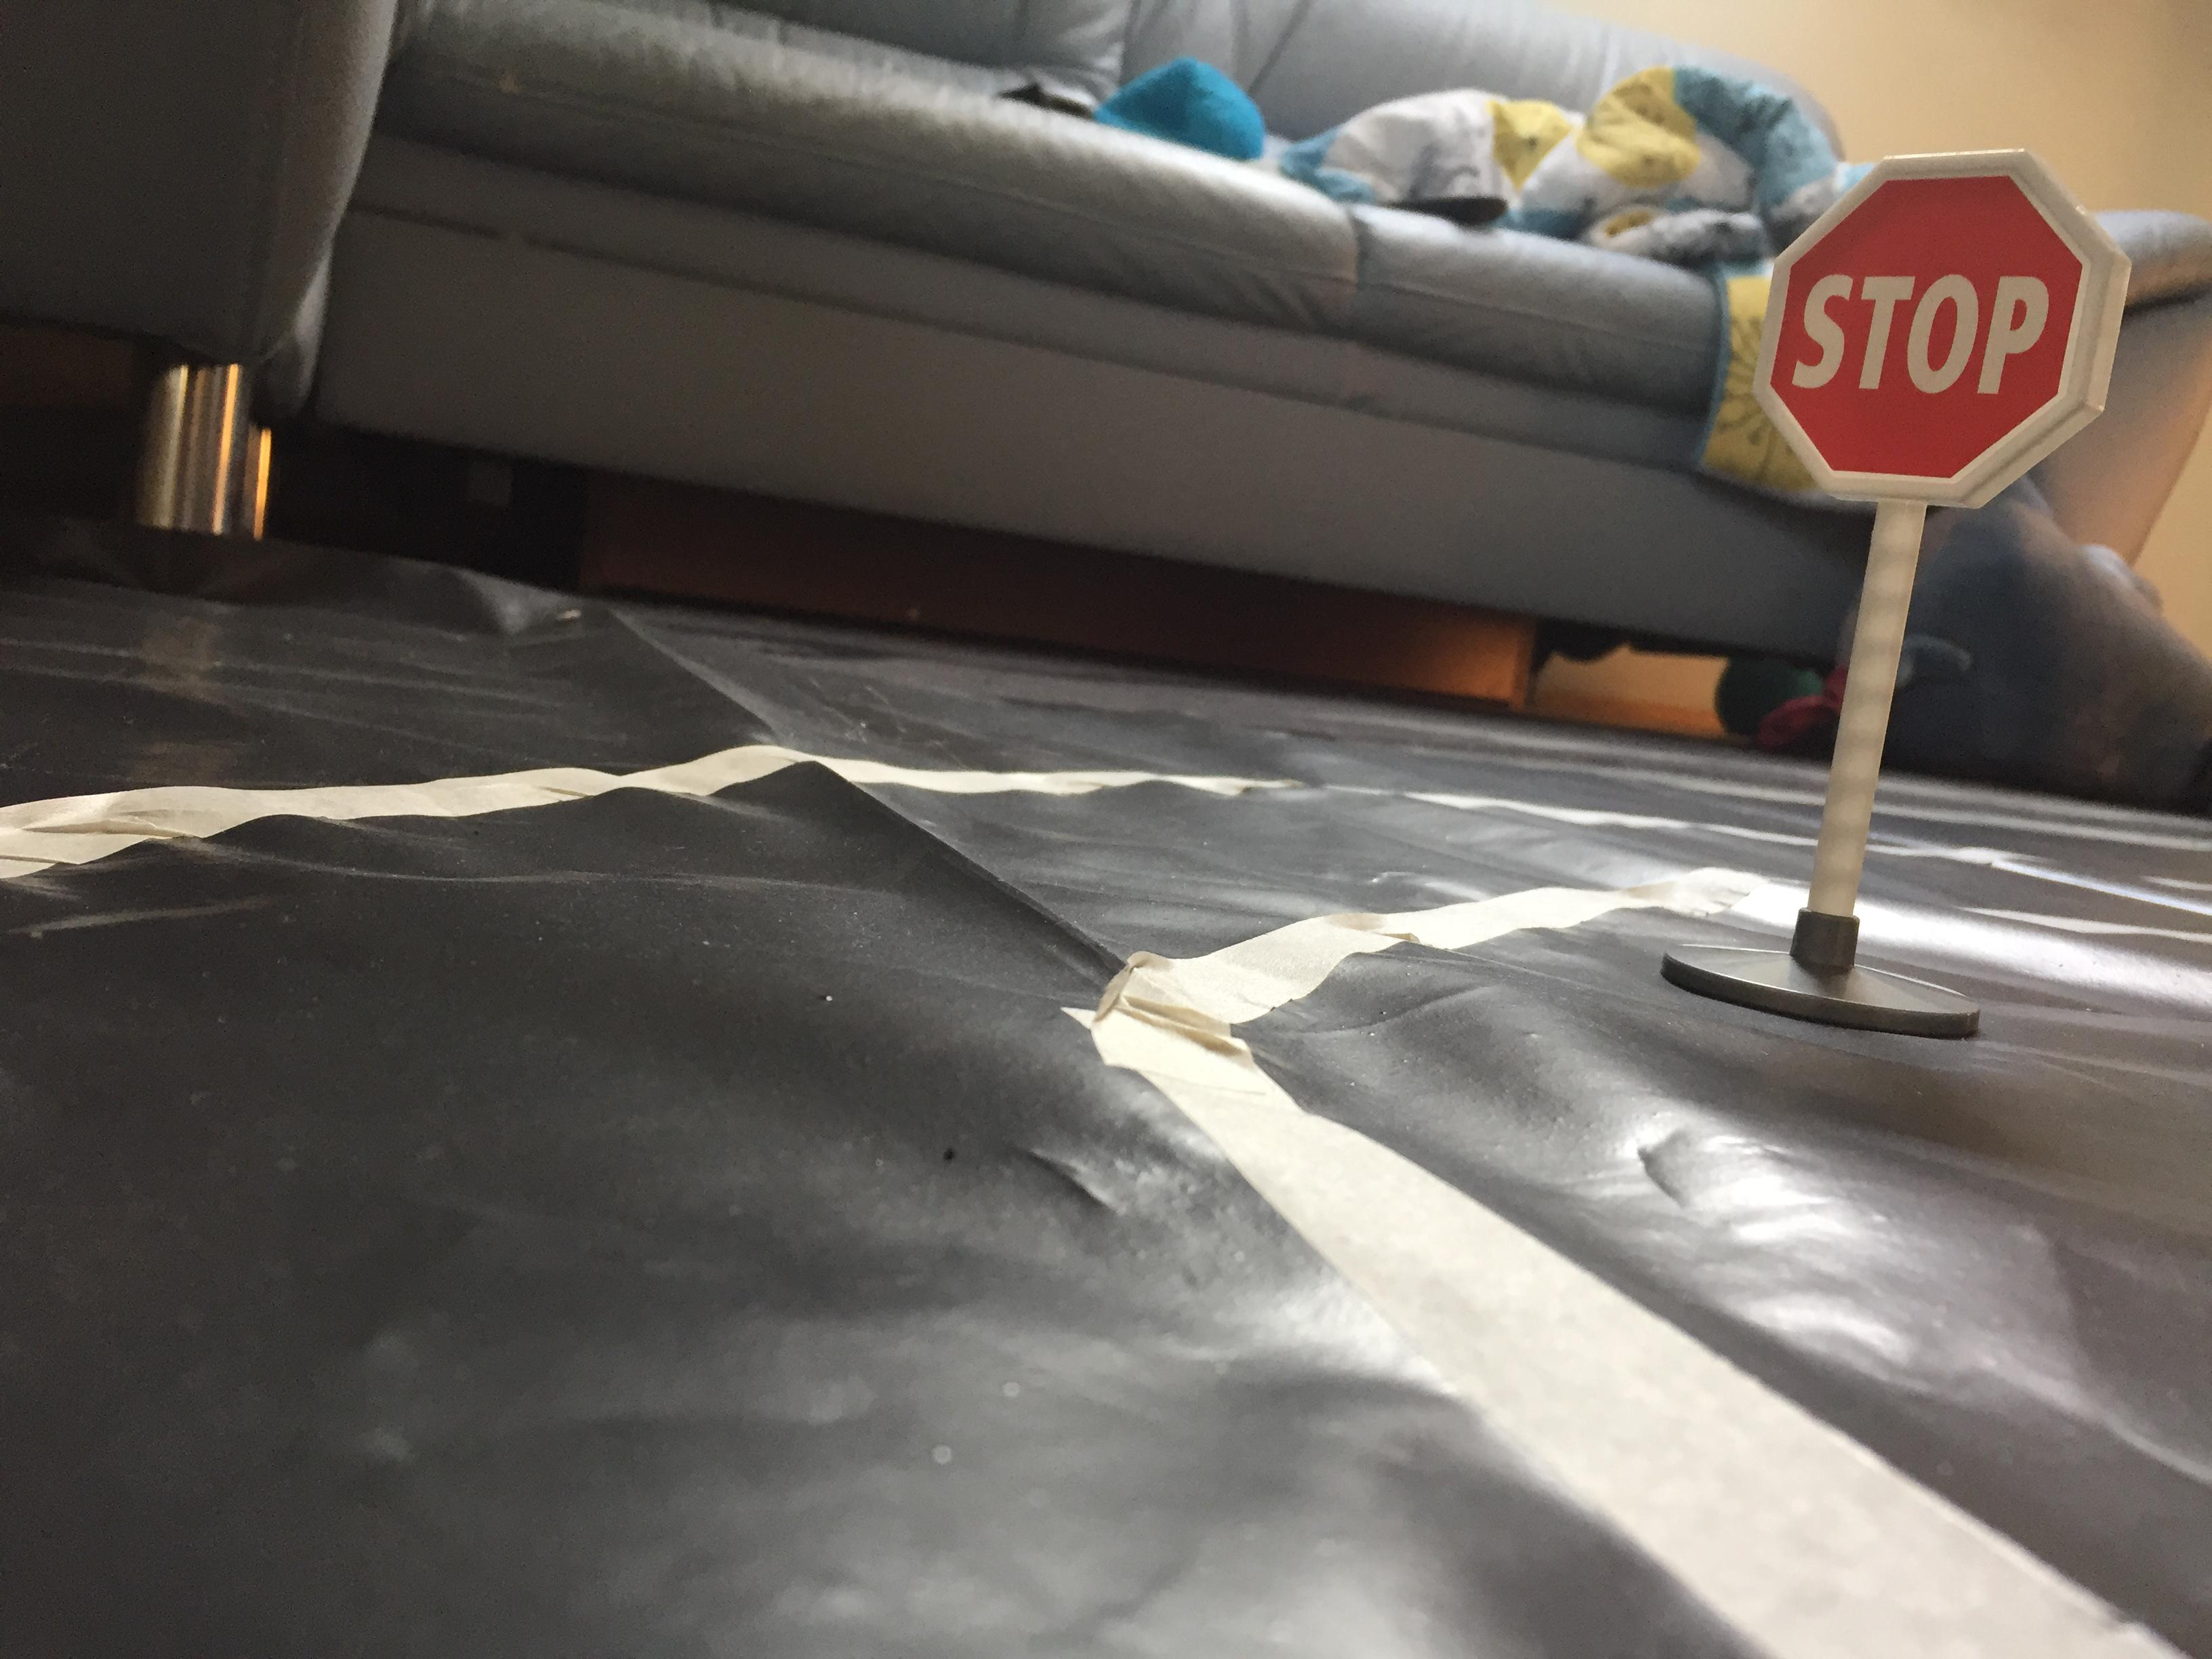stop: (1745, 145, 2139, 523)
